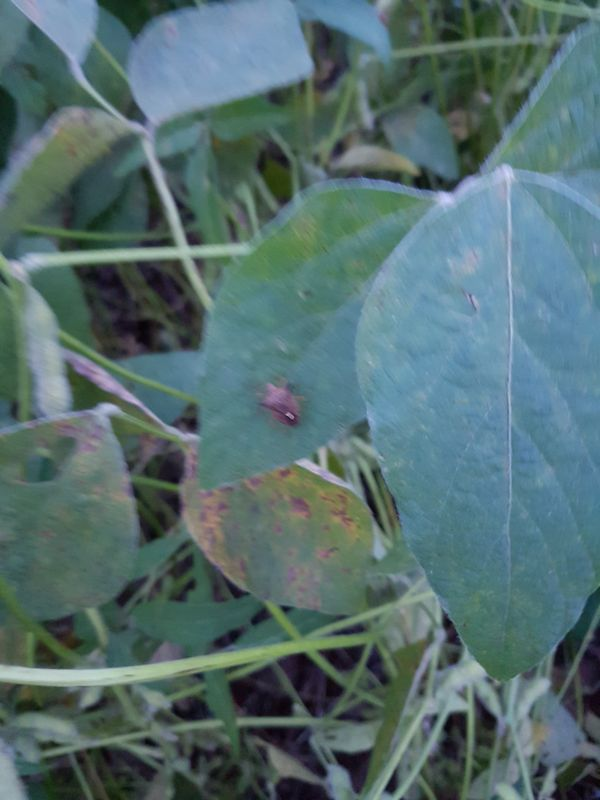Euschistus_heros_adulto: (250, 370, 314, 433)
